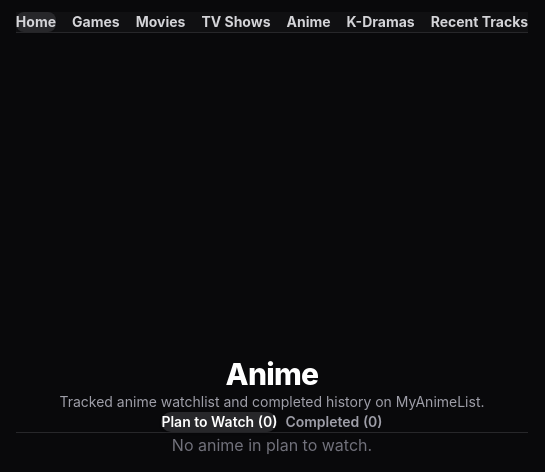
Anime Page › handles empty planToWatch and completed arrays safely
Expected: the tab "Plan to Watch (0)" is shown, 161,412 -> 277,432
Expected: the text "No anime in plan to watch." is shown, 172,435 -> 372,455
Click the tab "Completed (0)": (334, 422) 285,412 -> 383,432
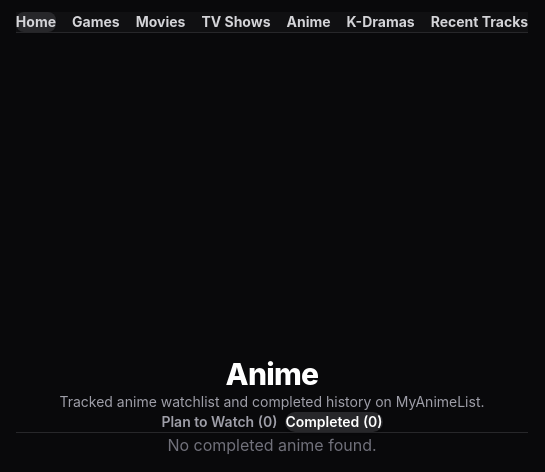
Result: the text "No completed anime found." is shown at 167,435 -> 376,455
